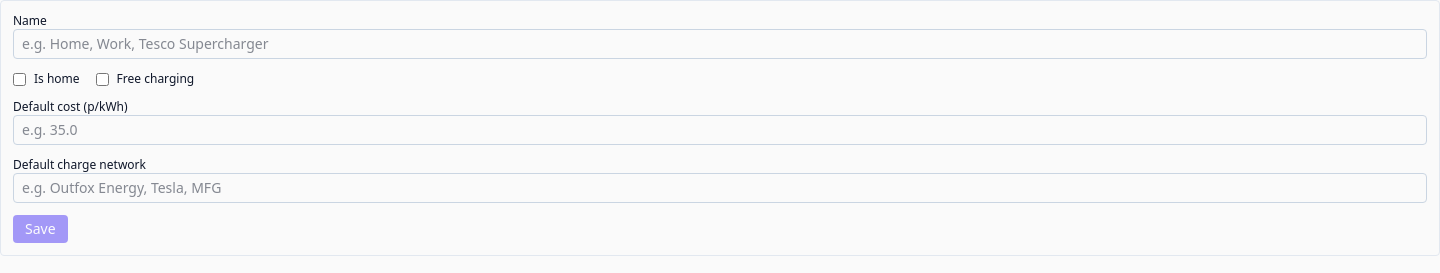
LocationLabelForm › disables the per-kWh rate input when "Free charging" is checked
The width and height of the screenshot is (1440, 273).
Expected: the number field named "Default cost per kWh" is enabled, [13,115,1427,145]
Click the checkbox labelled "Free charging" at (102, 79), box [96,72,109,86]
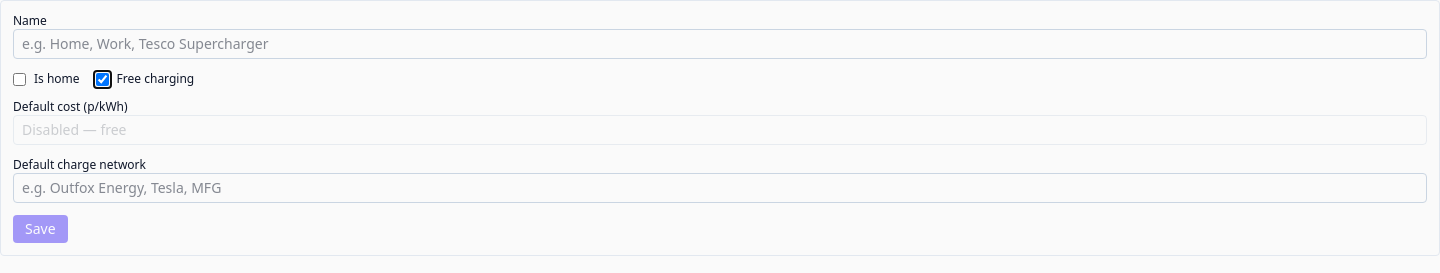
Now the number field named "Default cost per kWh" is disabled, box [13,115,1427,145]
